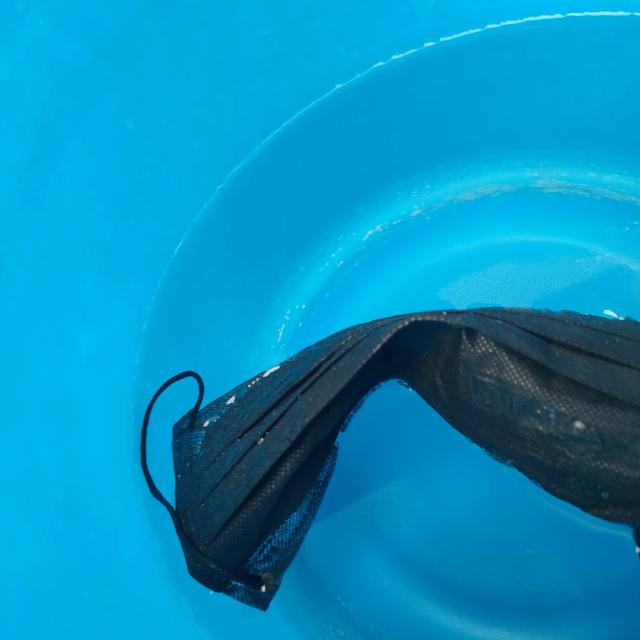mask: (119, 274, 640, 584)
